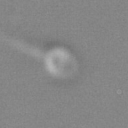normal: (1, 32, 45, 60)
